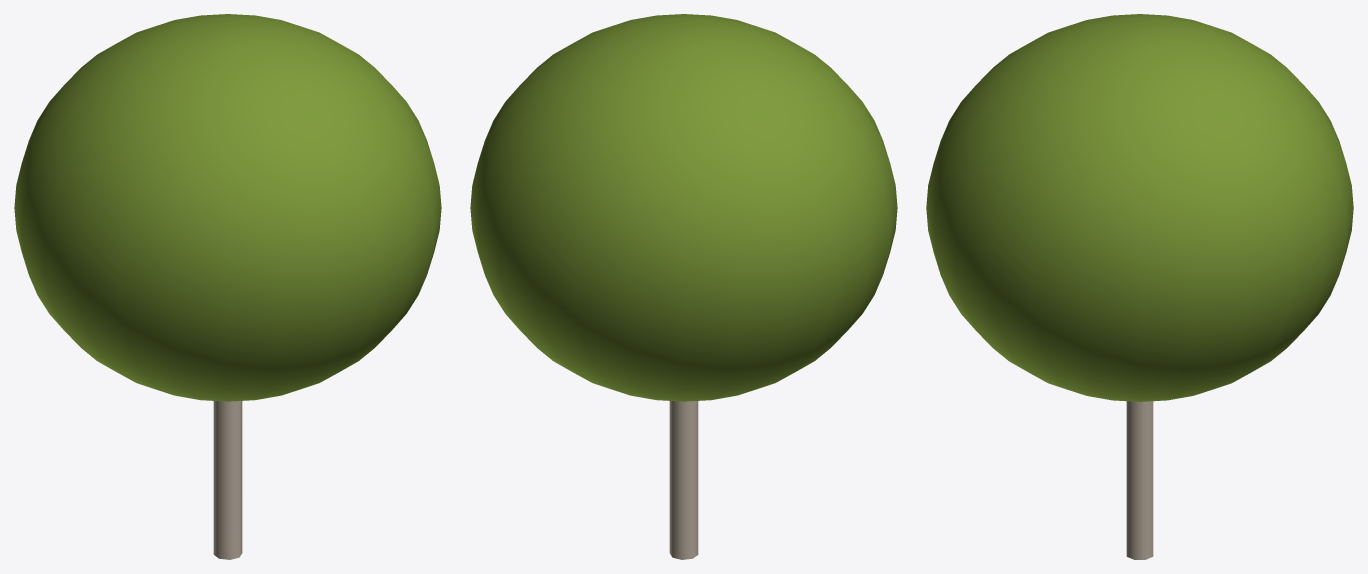
The model's file is CitrusSinensis.glb.
The picture shows the model from 3 angles, left to right: view 1: azimuth 30°, elevation 25°; view 2: azimuth 150°, elevation 25°; view 3: azimuth 270°, elevation 25°; orthographic projection.
Visible parts, largest first — view 1: Orange_Tree__Schematic_LOD3; view 2: Orange_Tree__Schematic_LOD3; view 3: Orange_Tree__Schematic_LOD3.
Part boxes in pixels (left/top/right/bottom): Orange_Tree__Schematic_LOD3: left=14, top=14, right=441, bottom=559; Orange_Tree__Schematic_LOD3: left=470, top=14, right=897, bottom=559; Orange_Tree__Schematic_LOD3: left=926, top=14, right=1353, bottom=559.
Size of the model in its own units: 4.44 by 5.94 by 4.44.
